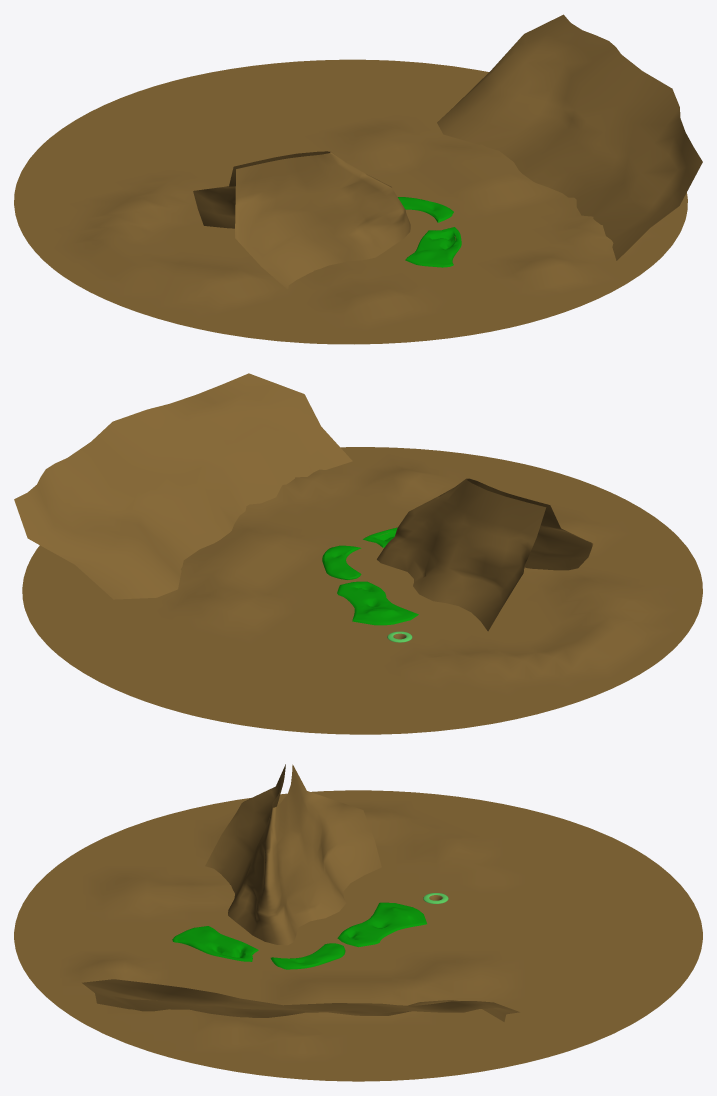
The model's file is newholetest.fbx.
3 renders of one model, top to bottom at view 1: azimuth 30°, elevation 25°; view 2: azimuth 150°, elevation 25°; view 3: azimuth 270°, elevation 25°, orthographic. The views are drawn at different scales.
Visible parts, largest first — view 1: pCircle3, nurbsToPoly11, nurbsToPoly12, nurbsToPoly10, nurbsToPoly9; view 2: pCircle3, nurbsToPoly11, nurbsToPoly12, nurbsToPoly7, nurbsToPoly9; view 3: pCircle3, nurbsToPoly12, nurbsToPoly11, nurbsToPoly7, nurbsToPoly10, nurbsToPoly9.
Boxes of the visible parts, x1=… form: pCircle3: x1=14, y1=59, x2=687, y2=344; nurbsToPoly11: x1=437, y1=14, x2=702, y2=260; nurbsToPoly12: x1=193, y1=151, x2=410, y2=289; nurbsToPoly10: x1=405, y1=227, x2=461, y2=267; nurbsToPoly9: x1=398, y1=197, x2=453, y2=222; pCircle3: x1=22, y1=447, x2=702, y2=734; nurbsToPoly11: x1=14, y1=373, x2=352, y2=599; nurbsToPoly12: x1=377, y1=478, x2=593, y2=631; nurbsToPoly7: x1=337, y1=581, x2=418, y2=625; nurbsToPoly9: x1=322, y1=545, x2=361, y2=579; pCircle3: x1=14, y1=790, x2=702, y2=1081; nurbsToPoly12: x1=205, y1=764, x2=381, y2=945; nurbsToPoly11: x1=82, y1=979, x2=519, y2=1021; nurbsToPoly7: x1=337, y1=902, x2=426, y2=947; nurbsToPoly10: x1=172, y1=926, x2=258, y2=961; nurbsToPoly9: x1=270, y1=943, x2=345, y2=969.
Size of the model in its own units: 1000 by 170 by 1000.
